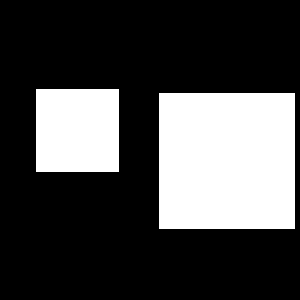circle: (159, 93, 295, 229), (36, 89, 119, 172)
